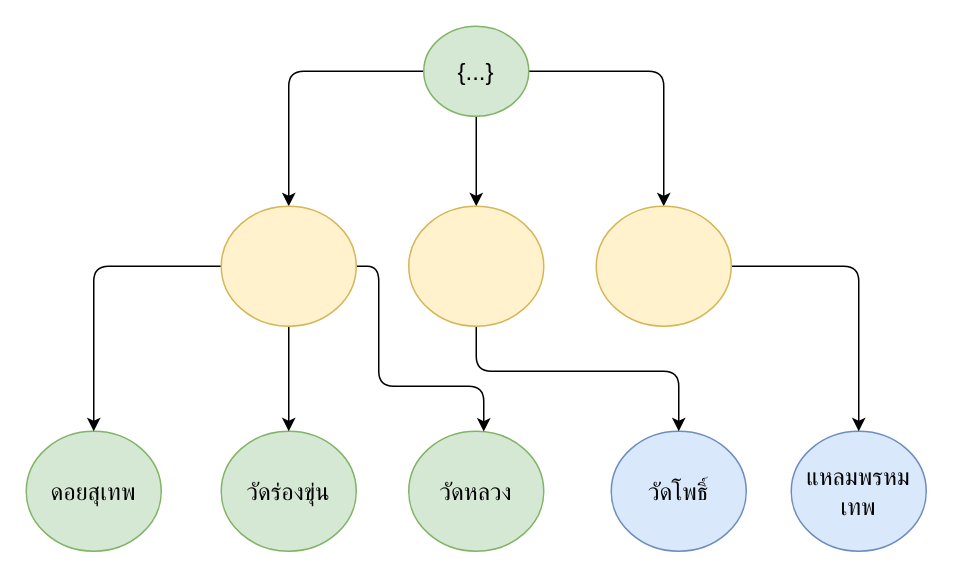
The diagram is 953 pixels wide and 578 high, and some of its shapes have lost their labels. The centre of each missing label's shape, as x and y in pixels:
"ภาคกลาง" goes at (x=475, y=265).
"ภาคเหนือ" goes at (x=288, y=265).
"ภาคใต้" goes at (x=663, y=265).
